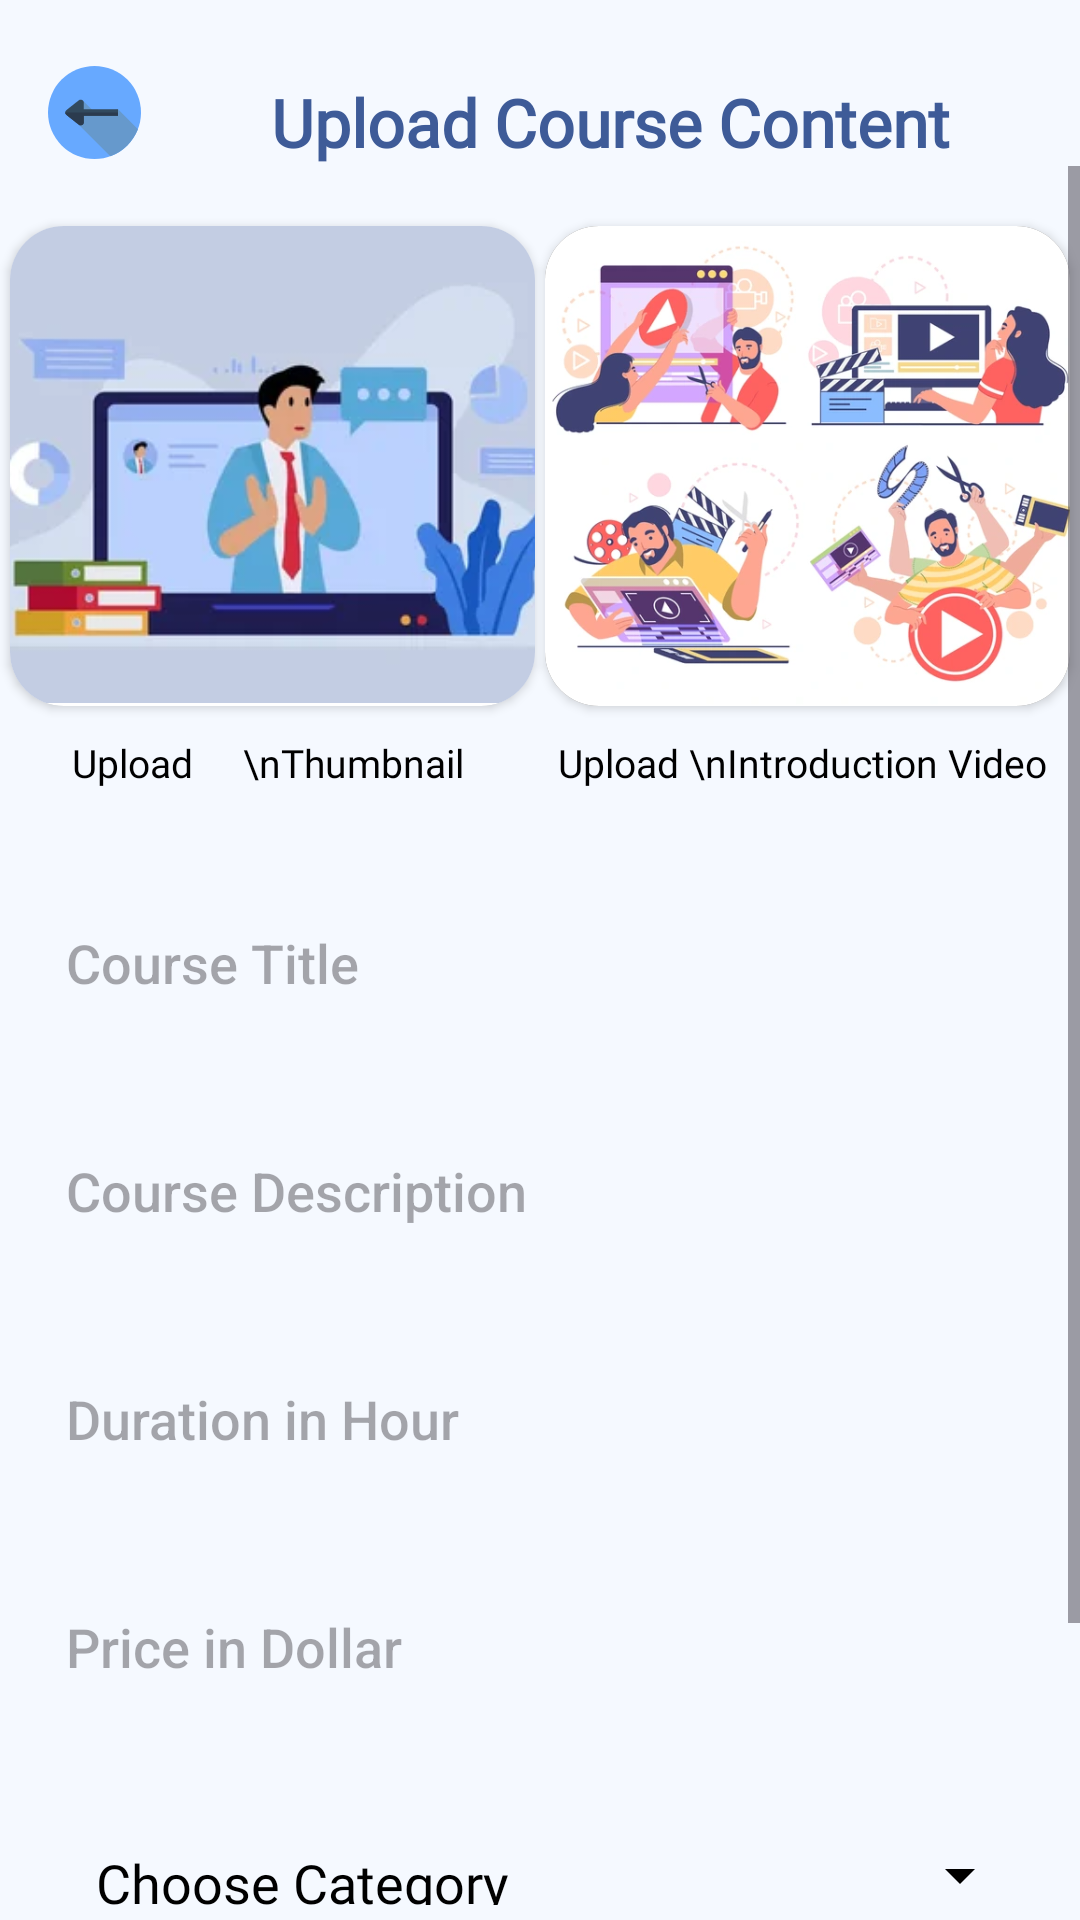

Screen size 1080 × 1920. Icon name, then its box in pixels as (x1, y1, x2, y2):
left arrow: (48, 66, 141, 159)
